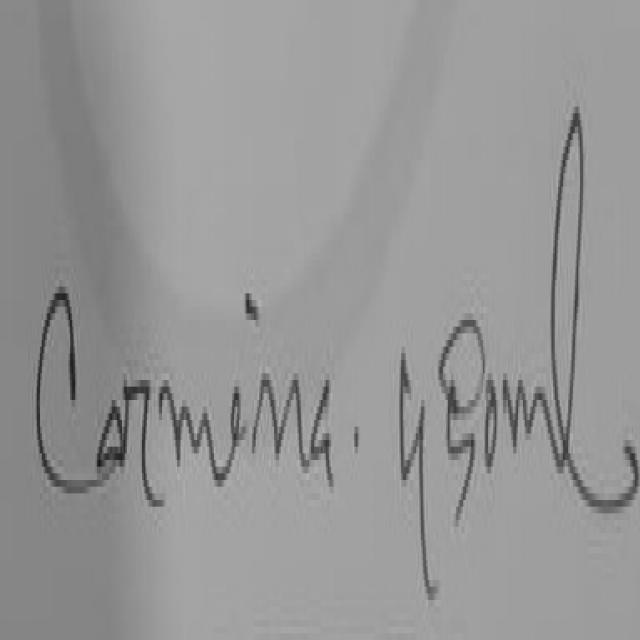0: (482, 338, 502, 514)
4: (389, 291, 442, 603)
5: (442, 298, 484, 566)
C: (22, 231, 96, 563)
a: (304, 338, 344, 514), (90, 354, 124, 510)
i: (225, 274, 254, 478)
l: (550, 64, 602, 530)
m: (161, 341, 224, 532), (501, 351, 553, 512)
n: (258, 331, 306, 501)
r: (120, 351, 158, 530)
